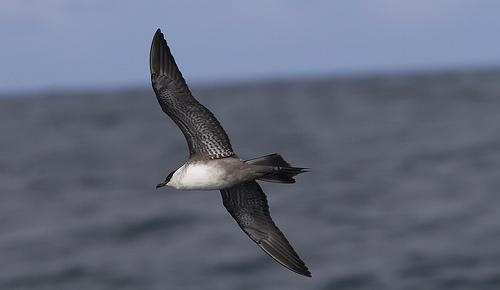bird: (147, 29, 314, 275)
